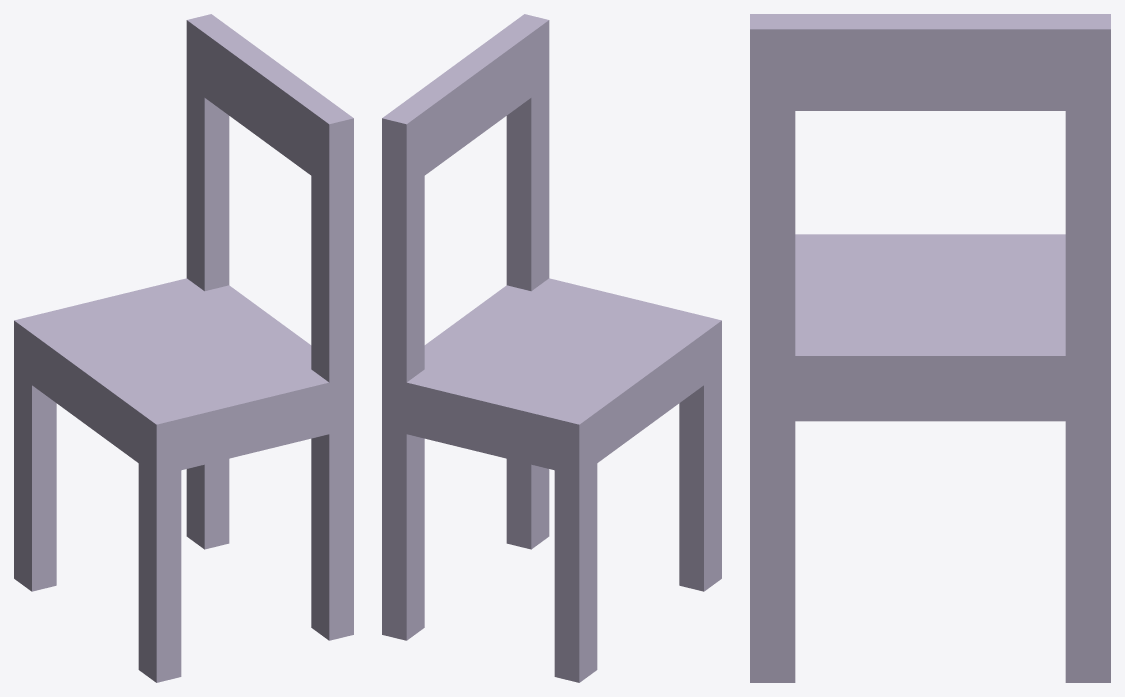
The model's file is carteira 1.fbx.
3 views of the same model, side by side, from view 1: azimuth 30°, elevation 25°; view 2: azimuth 150°, elevation 25°; view 3: azimuth 270°, elevation 25° (orthographic). The views are drawn at different scales.
Visible parts, largest first — view 1: cadeira 1; view 2: cadeira 1; view 3: cadeira 1.
Part boxes in pixels (bbox=[...]): cadeira 1: bbox=[14, 14, 353, 682]; cadeira 1: bbox=[382, 14, 721, 682]; cadeira 1: bbox=[750, 14, 1110, 682].
Bounding box in the file's own units: 80 × 200 × 100.
